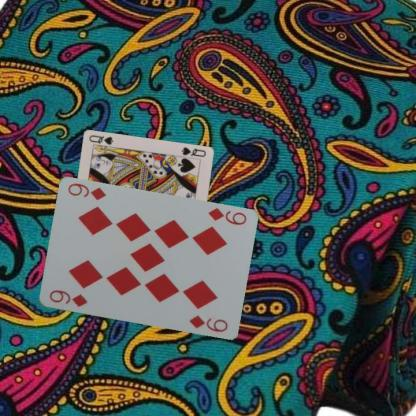9d: (46, 287, 89, 309), (205, 205, 248, 227)
Qs: (178, 144, 207, 158)
